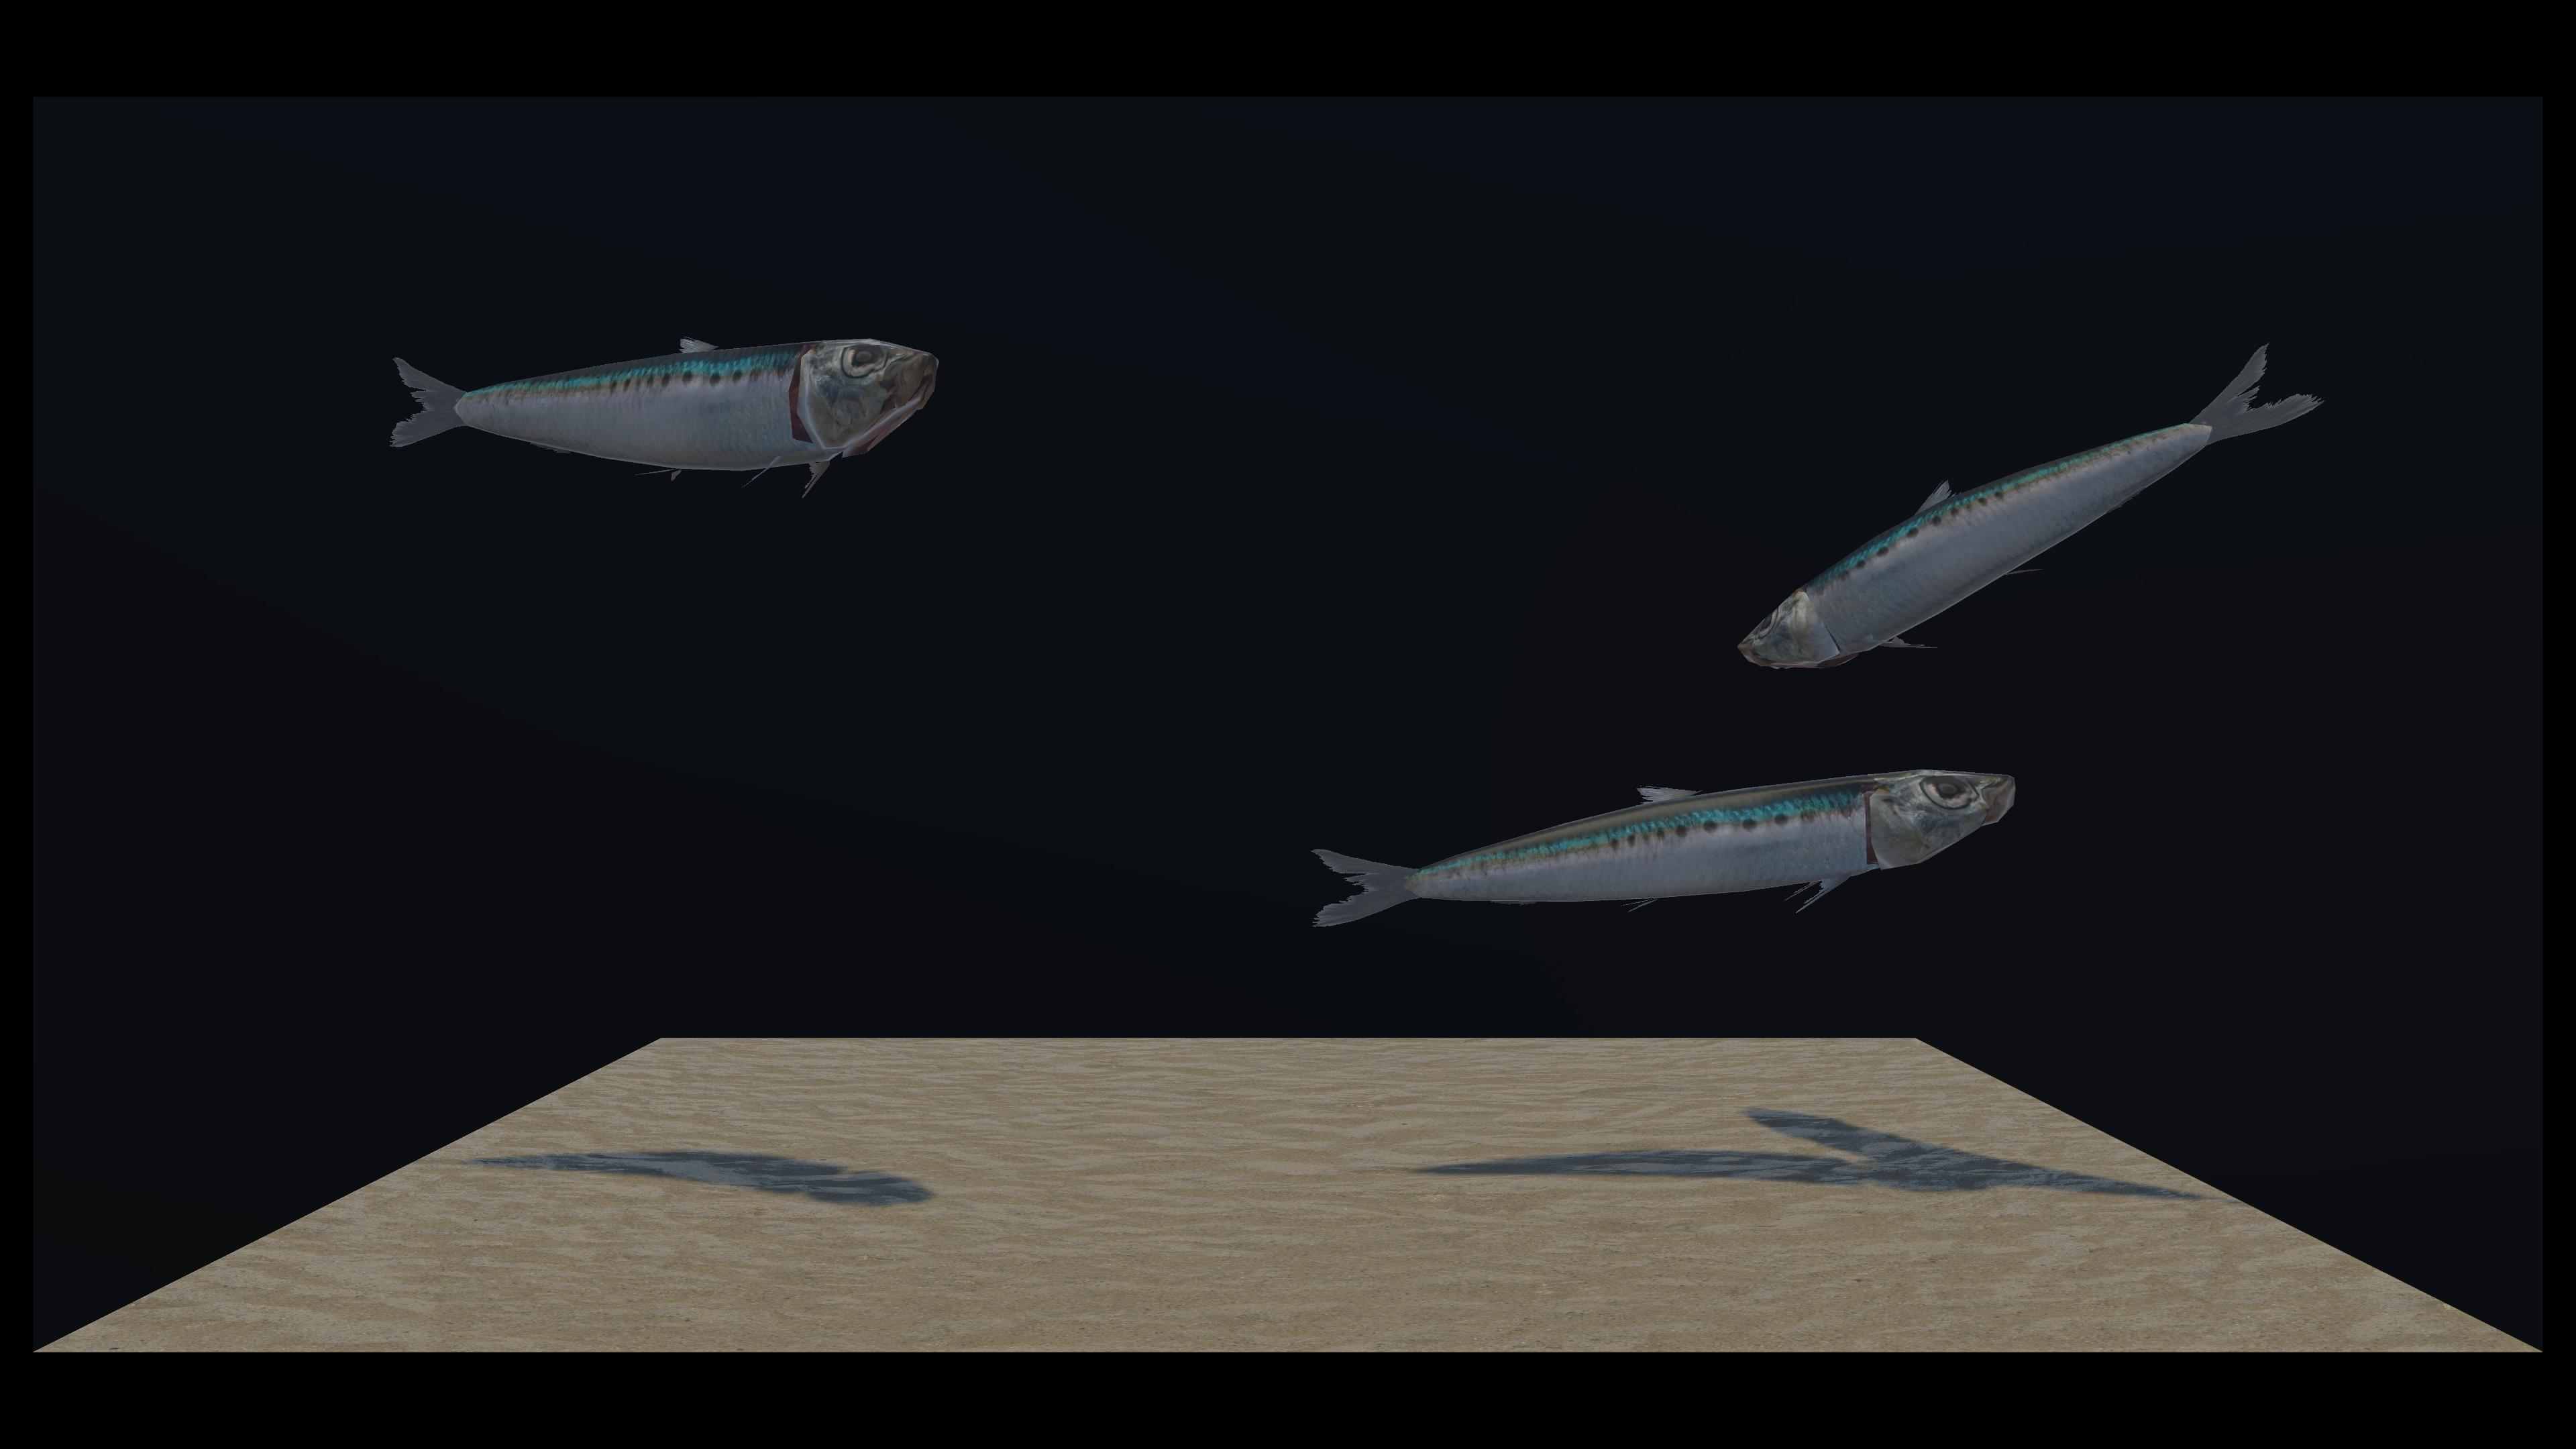Sardine_Front: (909, 366, 2006, 927), (952, 341, 2323, 655), (395, 340, 927, 504)
